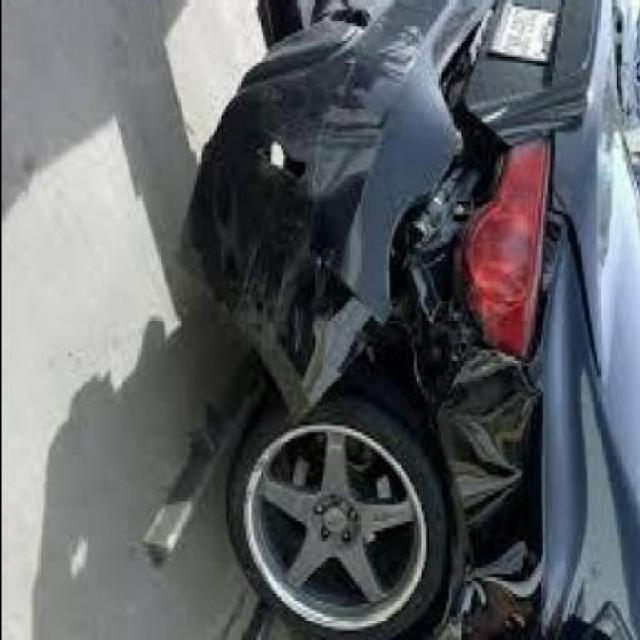damage: (172, 13, 540, 574)
